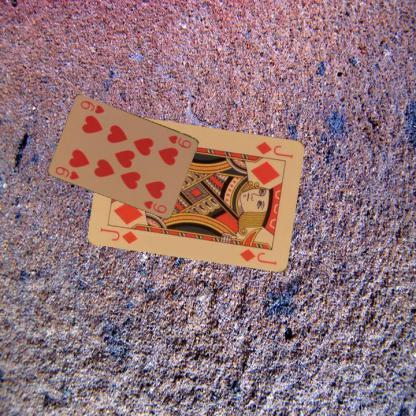9h: (52, 163, 81, 181), (166, 132, 193, 150)
Jd: (254, 138, 294, 160), (98, 225, 140, 245)
